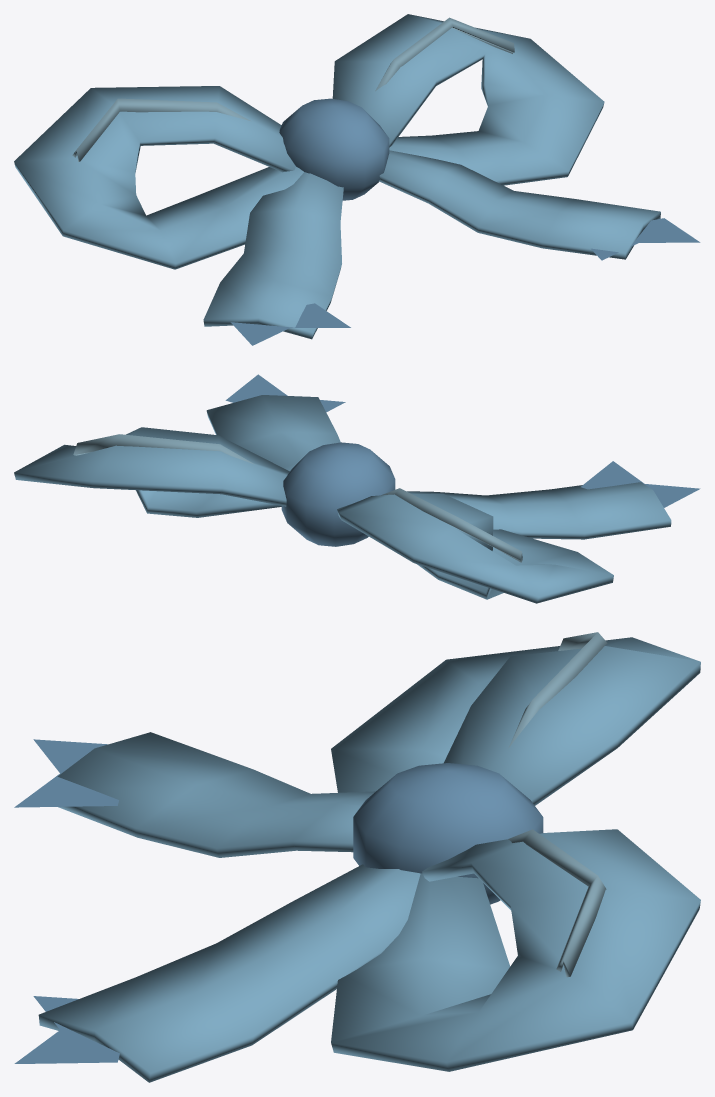
File: hair_ribbon.glb
3 renders of one model, top to bottom at view 1: azimuth 30°, elevation 25°; view 2: azimuth 150°, elevation 25°; view 3: azimuth 270°, elevation 25°, orthographic. The views are drawn at different scales.
Parts seen in each view (by area): view 1: hair_ribbon; view 2: hair_ribbon; view 3: hair_ribbon.
Part boxes in pixels (x1,y1,x2,y2): hair_ribbon: [14, 14, 700, 345]; hair_ribbon: [14, 374, 700, 603]; hair_ribbon: [14, 632, 700, 1082].
Bounding box in the file's own units: 0.2447 × 0.0464 × 0.1788.
